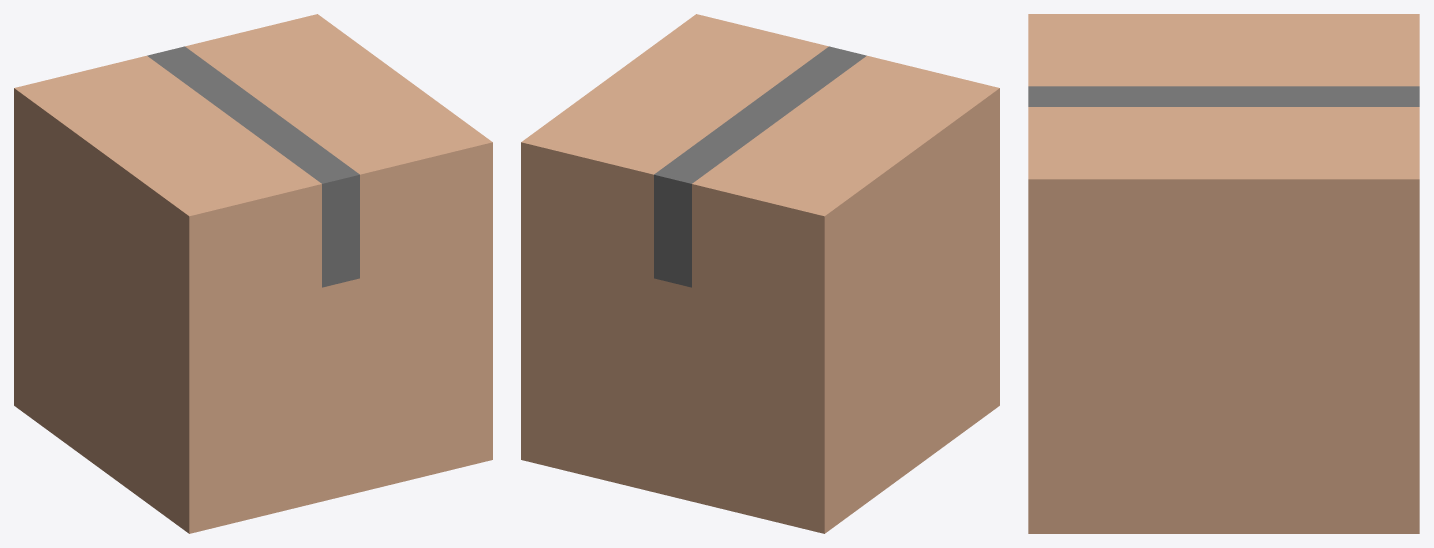
3 views of the same model, side by side, from view 1: azimuth 30°, elevation 25°; view 2: azimuth 150°, elevation 25°; view 3: azimuth 270°, elevation 25° (orthographic). The views are drawn at different scales.
Visible parts, largest first — view 1: Box; view 2: Box; view 3: Box.
Boxes of the visible parts, x1,y1,x2,y2 form: Box: [14, 14, 492, 533]; Box: [521, 14, 999, 533]; Box: [1028, 14, 1419, 533].
Size of the model in its own units: 100 by 100 by 100.
